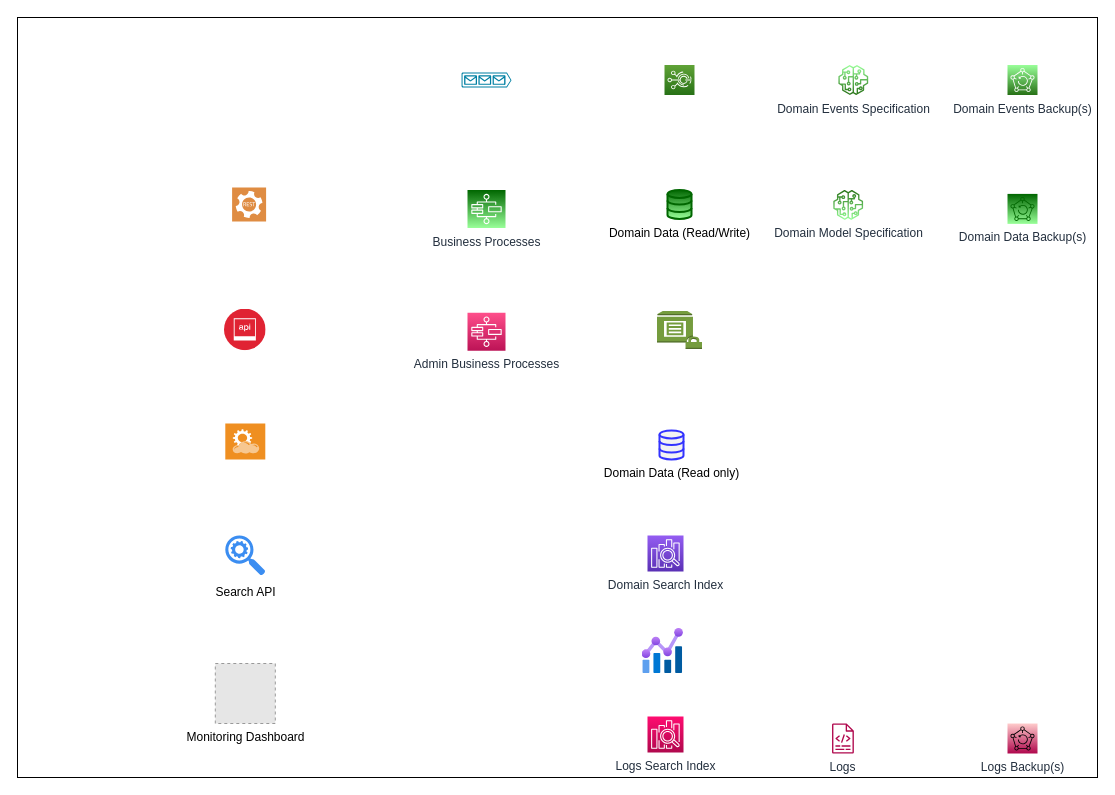
Image size: 1115x795. Some labels were removed from this diagram. Grey dashed boxes stand in for pictures. Each missing label, with the centre of its shape:
Admin API: [245,329]
Commands API (CUD part of CRUD): [249,204]
Configuration Parameters: [679,329]
Domain Events: [679,79]
Domain Metrics: [662,650]
Intermediate Storage Queue: [486,79]
Queries API (R part of CRUD): [245,441]
